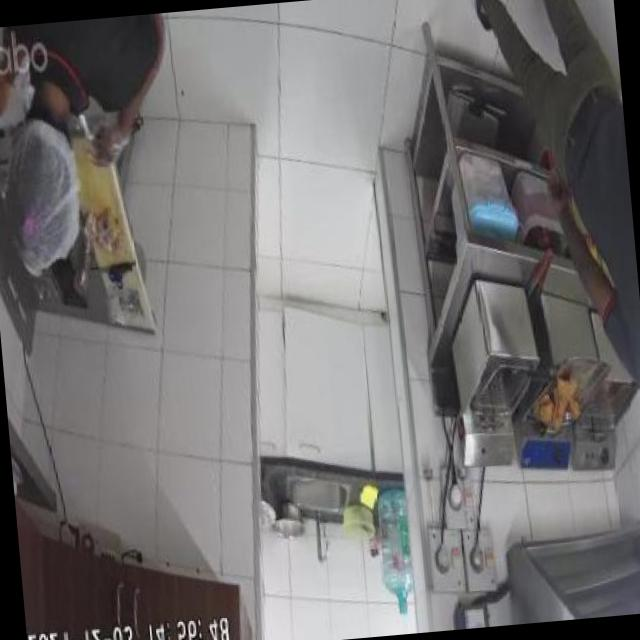hairnet: (6, 130, 79, 268)
